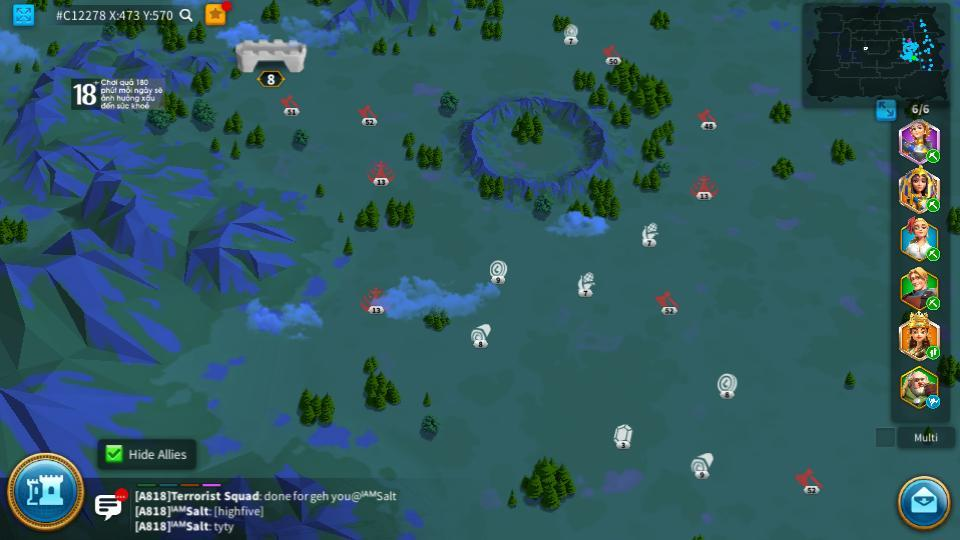gem-z-out: (611, 424, 634, 448)
march_farming: (925, 197, 941, 212), (925, 249, 941, 261)
march_idle: (925, 396, 942, 410)
march_marching: (926, 345, 941, 359), (925, 150, 942, 162), (925, 297, 942, 308)
